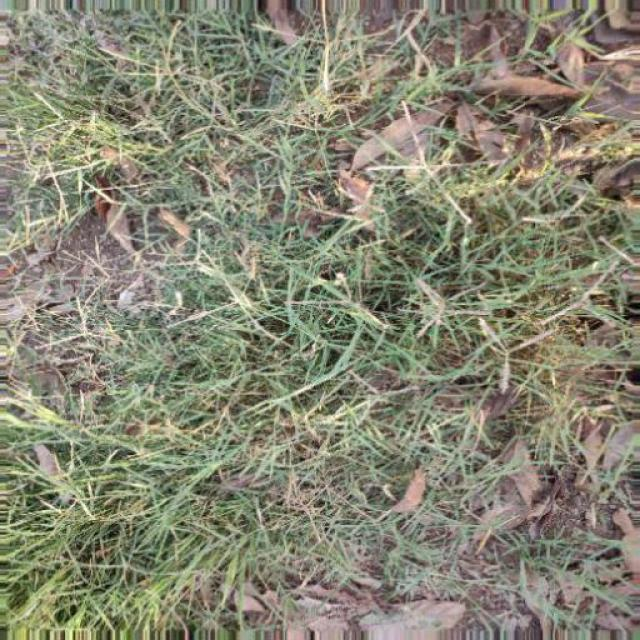weed: (12, 16, 588, 602)
